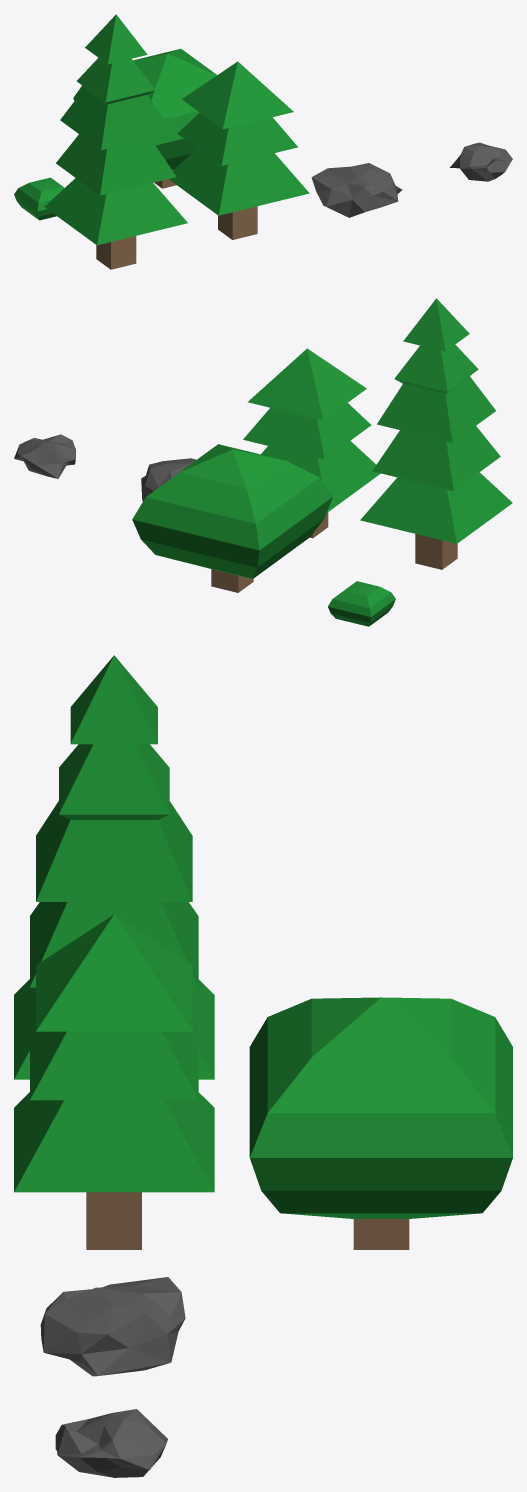
File: terrain_objects.glb
3 renders of one model, top to bottom at view 1: azimuth 30°, elevation 25°; view 2: azimuth 150°, elevation 25°; view 3: azimuth 270°, elevation 25°, orthographic. The views are drawn at different scales.
Visible parts, largest first — view 1: Tree01, Tree02, Tree03, Rock01, Rock02, Bush01; view 2: Tree01, Tree03, Tree02, Bush01, Rock02, Rock01; view 3: Tree03, Tree02, Tree01, Rock01, Rock02.
Part boxes in pixels (box(x1,y1,x2,y2)): Tree01: box(44, 14, 187, 269); Tree02: box(169, 61, 309, 239); Tree03: box(73, 48, 216, 188); Rock01: box(311, 163, 402, 217); Rock02: box(450, 142, 512, 181); Bush01: box(14, 177, 64, 220); Tree01: box(360, 298, 512, 569); Tree03: box(132, 444, 332, 592); Tree02: box(243, 348, 380, 538); Bush01: box(328, 581, 395, 626); Rock02: box(14, 434, 75, 478); Rock01: box(141, 458, 196, 501); Tree03: box(249, 997, 512, 1249); Tree02: box(14, 914, 214, 1249); Tree01: box(14, 655, 214, 1079); Rock01: box(40, 1277, 185, 1376); Rock02: box(55, 1409, 167, 1477).
Size of the model in its own units: 14.36 by 7.86 by 7.47.
